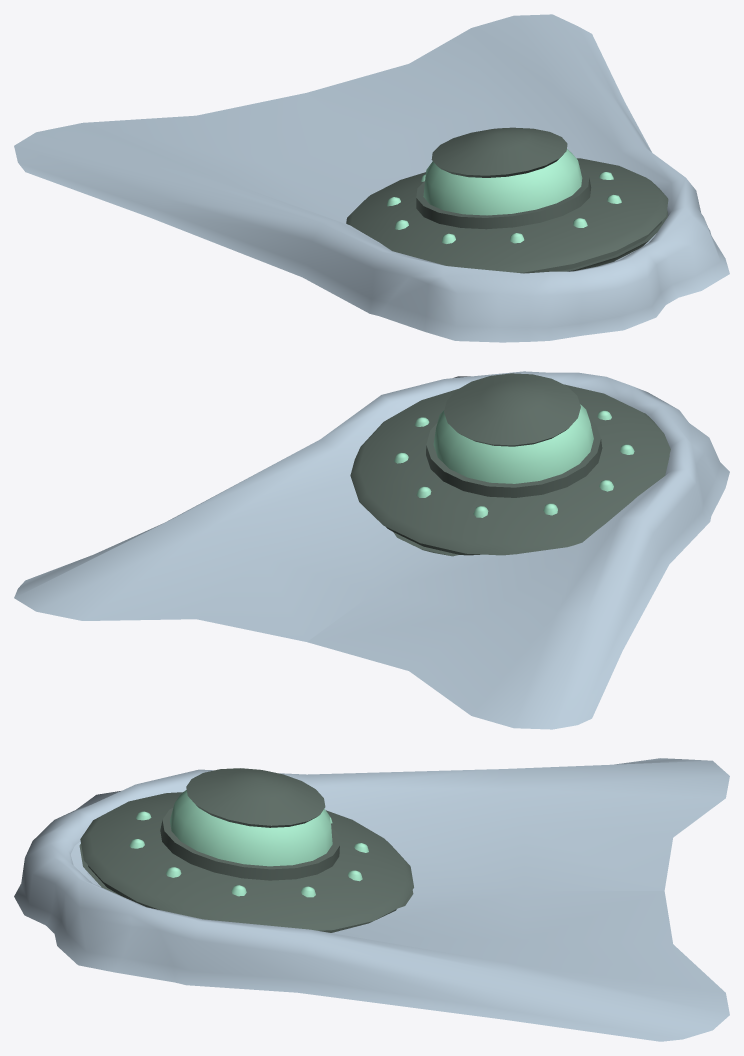
The model's file is mdl_ufo01.fbx.
3 views of the same model, one above another, from view 1: azimuth 30°, elevation 25°; view 2: azimuth 150°, elevation 25°; view 3: azimuth 270°, elevation 25° (orthographic). The views are drawn at different scales.
Parts seen in each view (by area): view 1: mdl_ufo02; view 2: mdl_ufo02; view 3: mdl_ufo02.
Boxes of the visible parts, x1,y1,x2,y2 form: mdl_ufo02: (14,14,729,342); mdl_ufo02: (14,371,729,729); mdl_ufo02: (14,758,729,1041).
Bounding box in the file's own units: 626 × 122 × 667.
1 material, 1 textured.
